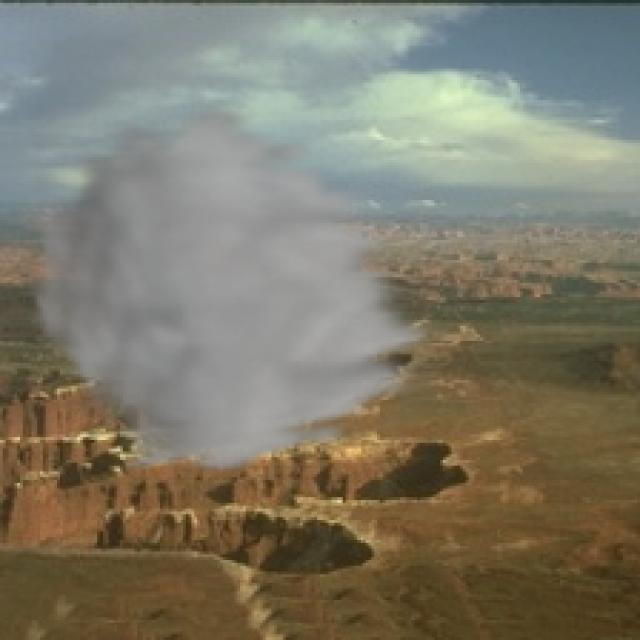Smoke: (22, 100, 448, 477)
